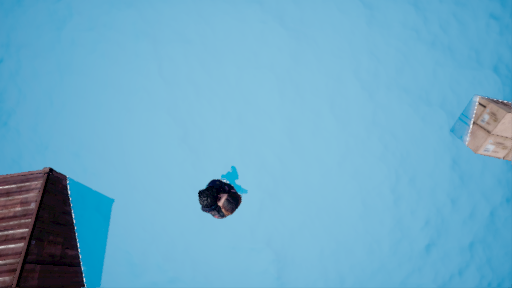person: (198, 162, 255, 220)
